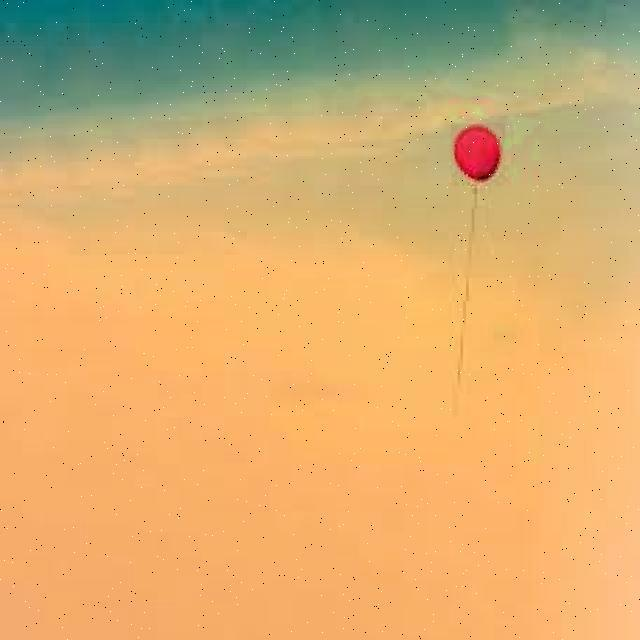red: (452, 123, 501, 182)
